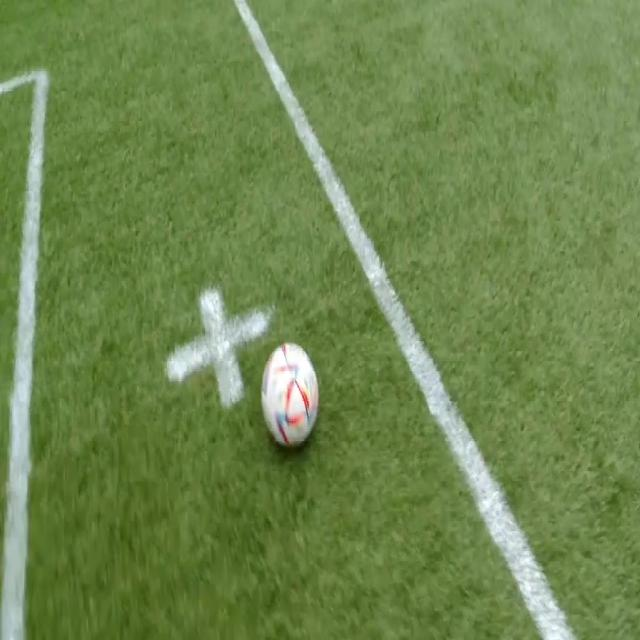ball: (261, 344, 318, 445)
